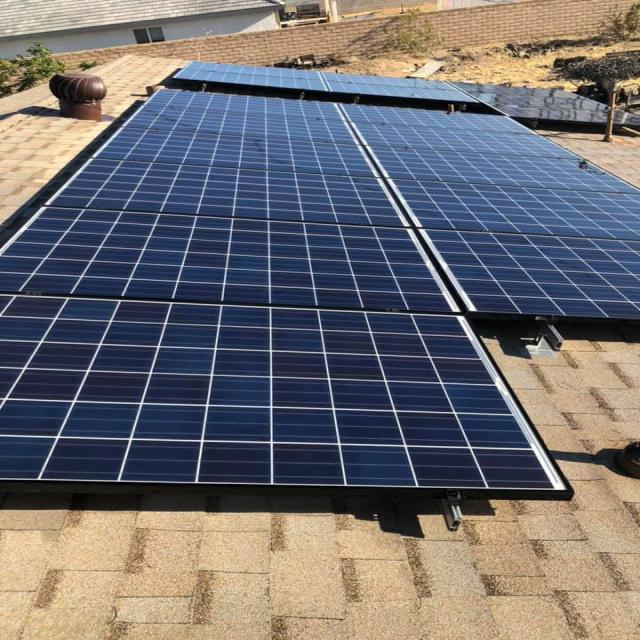clean-solar-panel: (2, 90, 637, 499)
